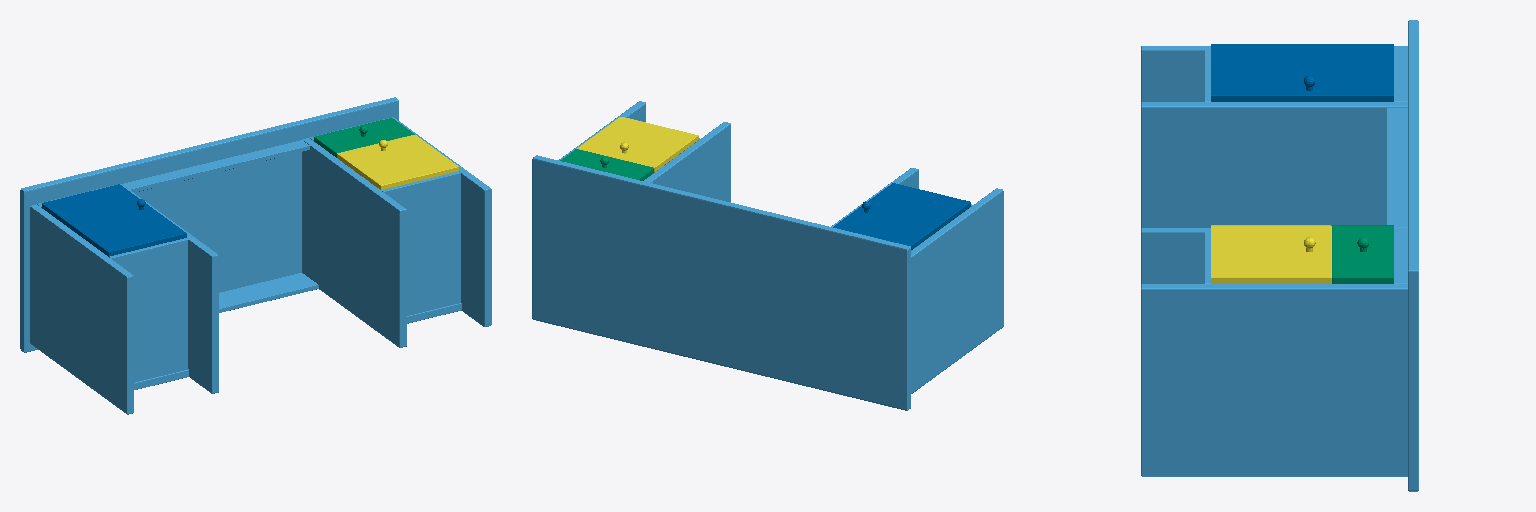
The robot description file, URDF, robot "107":
<robot name="107">


	<link name="0:virtual">
		<visual>
			<origin xyz="0.0 0.0 0.0" rpy="0 0 0"/>
			<geometry>
				<cylinder length="0" radius="0"/>
			</geometry>
		</visual>
	</link>


	<link name="1:static">
		<visual>
			<origin xyz="-0.0 -0.0 -0.0" rpy="0 0 0"/>
			<geometry>
				<mesh filename="../raw_data/107/part_meshes/1.dae" />
			</geometry>
		</visual>
	</link>


	<link name="2:drawer 1">
		<visual>
			<origin xyz="-0.5806649923324585 -0.5994524955749512 -0.010685011744499207" rpy="0 0 0"/>
			<geometry>
				<mesh filename="../raw_data/107/part_meshes/2.dae" />
			</geometry>
		</visual>
	</link>


	<link name="3:drawer 2">
		<visual>
			<origin xyz="-0.5806649923324585 -0.3513619974255562 -0.010685011744499207" rpy="0 0 0"/>
			<geometry>
				<mesh filename="../raw_data/107/part_meshes/3.dae" />
			</geometry>
		</visual>
	</link>


	<link name="4:cabinet door 1">
		<visual>
			<origin xyz="0.7475789785385132 -0.43593699485063553 -0.274725005030632" rpy="0 0 0"/>
			<geometry>
				<mesh filename="../raw_data/107/part_meshes/4.dae" />
			</geometry>
		</visual>
	</link>


	<joint name="0:virtual::1:static" type="fixed">
		<parent link="0:virtual"/>
		<child link="1:static"/>
		<origin xyz="0.0 0.0 0.0" rpy="0 0 0"/>
	</joint>


	<joint name="0:virtual::2:drawer 1_translation" type="prismatic">
		<parent link="0:virtual"/>
		<child link="2:drawer 1"/>
		<origin xyz="0.5806649923324585 0.5994524955749512 0.010685011744499207" rpy="0 0 0"/>
		<limit lower="0.0" upper="0.516426478505135" effort="10" velocity="3"/>
		<axis xyz="0.0 0.0 1.0"/>
	</joint>


	<joint name="0:virtual::3:drawer 2_translation" type="prismatic">
		<parent link="0:virtual"/>
		<child link="3:drawer 2"/>
		<origin xyz="0.5806649923324585 0.3513619974255562 0.010685011744499207" rpy="0 0 0"/>
		<limit lower="0.0" upper="0.516426478505135" effort="10" velocity="3"/>
		<axis xyz="0.0 0.0 1.0"/>
	</joint>


	<joint name="0:virtual::4:cabinet door 1_rotation" type="revolute">
		<parent link="0:virtual"/>
		<child link="4:cabinet door 1"/>
		<origin xyz="-0.7475789785385132 0.43593699485063553 0.274725005030632" rpy="0 0 0"/>
		<limit lower="-3.141592653589793" upper="0.0" effort="10" velocity="3"/>
		<axis xyz="0.0 1.0 0.0"/>
	</joint>


</robot>

--- What the picture shows (computed from the rendered views, not written in the file) ---
The picture shows the robot from 3 angles, left to right: view 1: azimuth 30°, elevation 25°; view 2: azimuth 150°, elevation 25°; view 3: azimuth 270°, elevation 25°; orthographic projection.
Robot: 107 — 5 links, 4 joints (1 revolute, 2 prismatic, 1 fixed); root link 0:virtual; default pose: all joints at 0.
Links seen in each view (by area): view 1: 1:static, 4:cabinet door 1, 3:drawer 2, 2:drawer 1; view 2: 1:static, 4:cabinet door 1, 3:drawer 2, 2:drawer 1; view 3: 1:static, 4:cabinet door 1, 3:drawer 2, 2:drawer 1.
Boxes of the visible links, x1,y1,x2,y2 form: 1:static: (20,97,491,414); 4:cabinet door 1: (42,184,186,256); 3:drawer 2: (337,135,458,190); 2:drawer 1: (314,118,414,157); 1:static: (532,101,1003,410); 4:cabinet door 1: (833,183,970,249); 3:drawer 2: (577,117,698,172); 2:drawer 1: (560,149,653,180); 1:static: (1141,20,1418,491); 4:cabinet door 1: (1211,44,1393,101); 3:drawer 2: (1211,225,1331,283); 2:drawer 1: (1332,225,1393,283).
Bounding box of the posed robot: 1.6 × 0.75 × 0.66 m (x, y, z).
4 mesh visuals loaded from 4 distinct referenced files (4 Collada DAE).